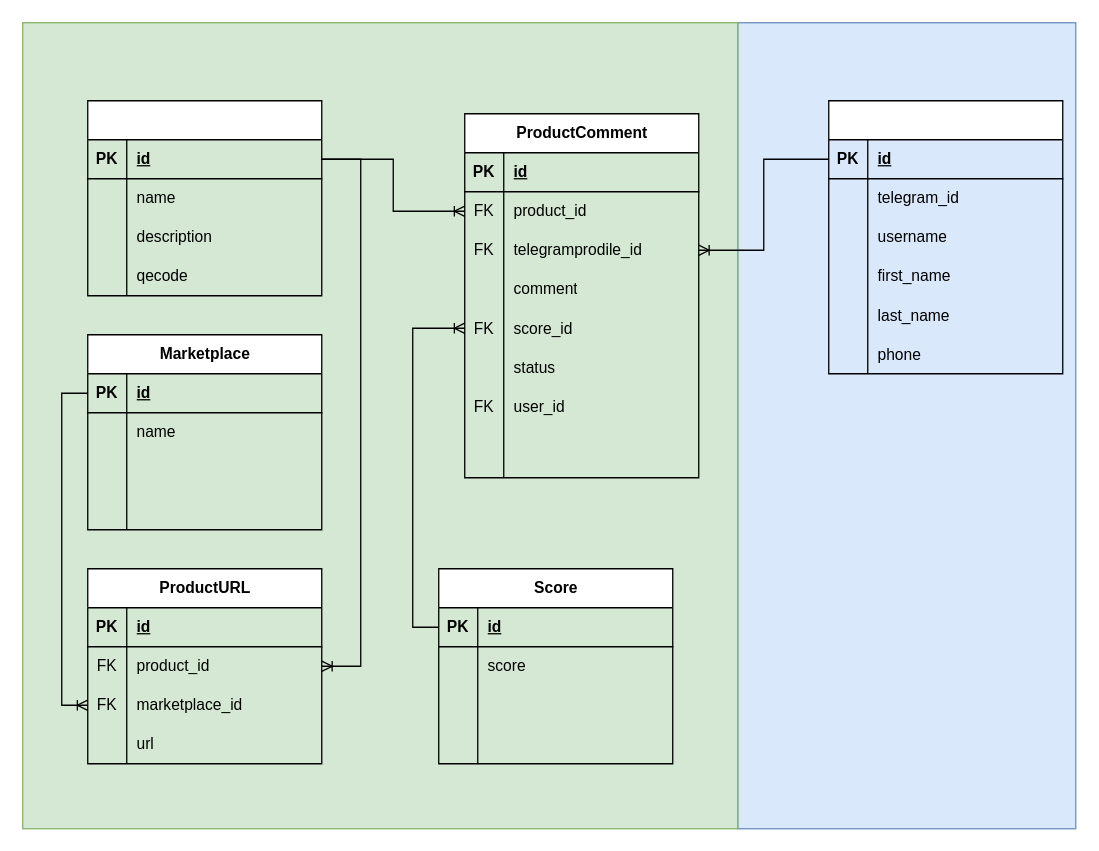
The diagram is 1099 pixels wide and 851 high, and some of its shapes have lost their labels. The shapes that lost their labels are listed below. From the top down, each one's box as (x1, y1, x2, y2) in pixels, then its label:
(86, 99, 322, 296): Product
(827, 99, 1063, 374): TemegramProfile
